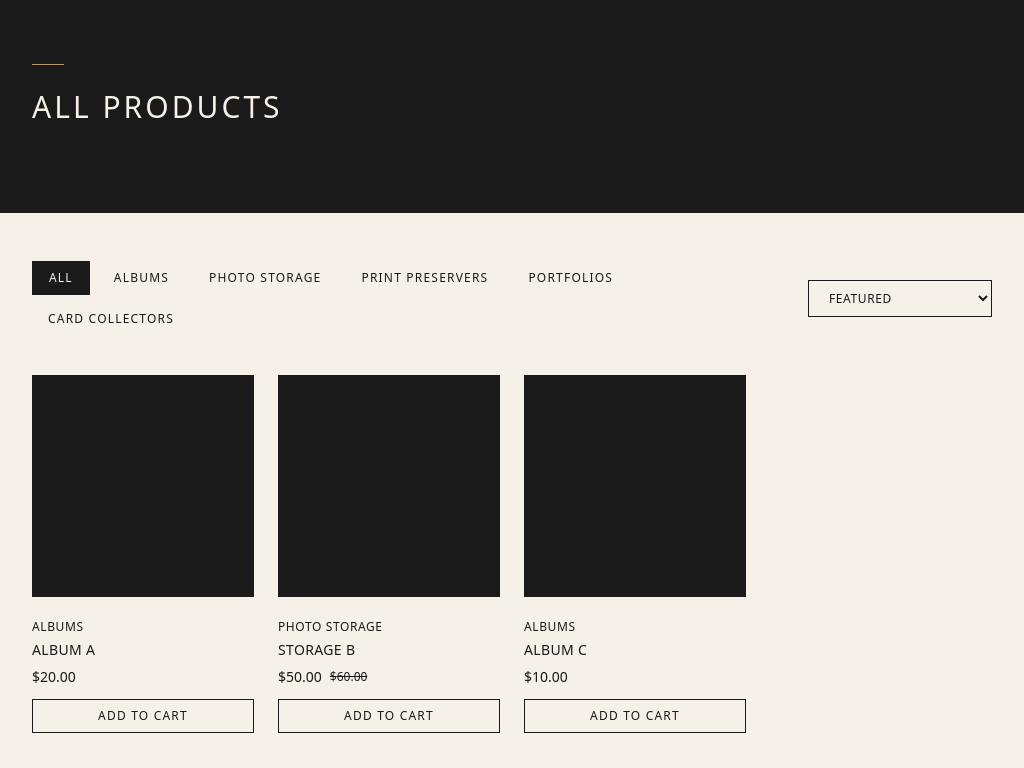
ShopClient › shows empty state when no products match category
Click the button "Portfolios". click: (571, 278)
box: top-left (512, 261), bottom-right (629, 295)
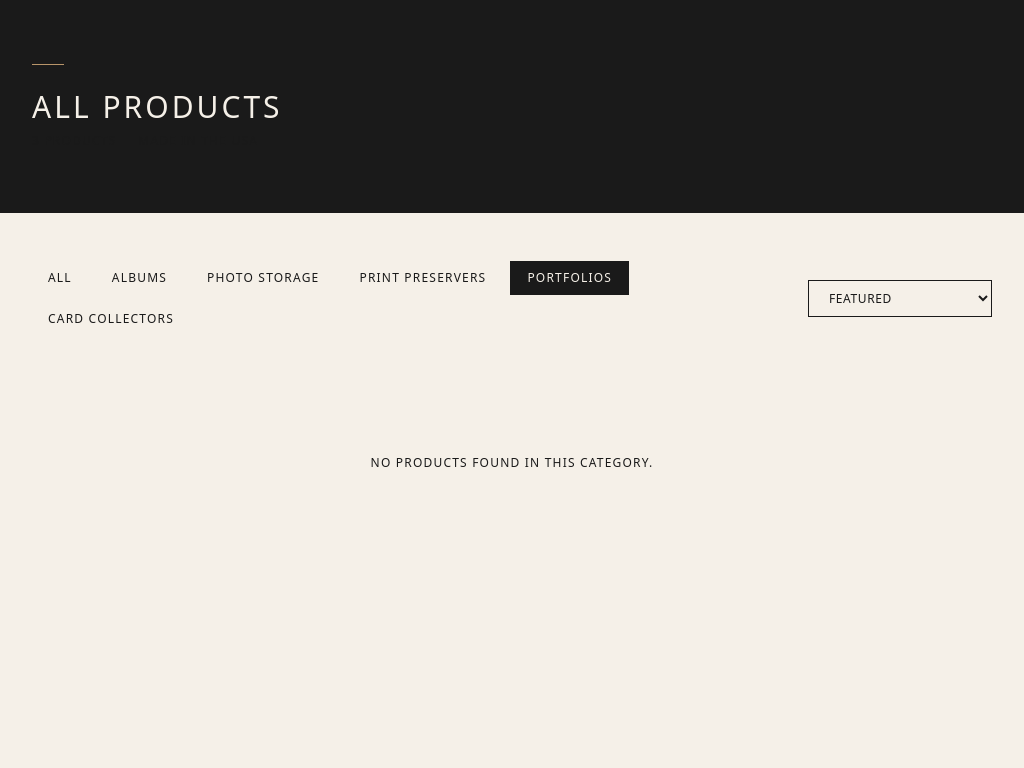
Result: the text "No products found in this category." is shown at top-left (371, 454), bottom-right (653, 471)
